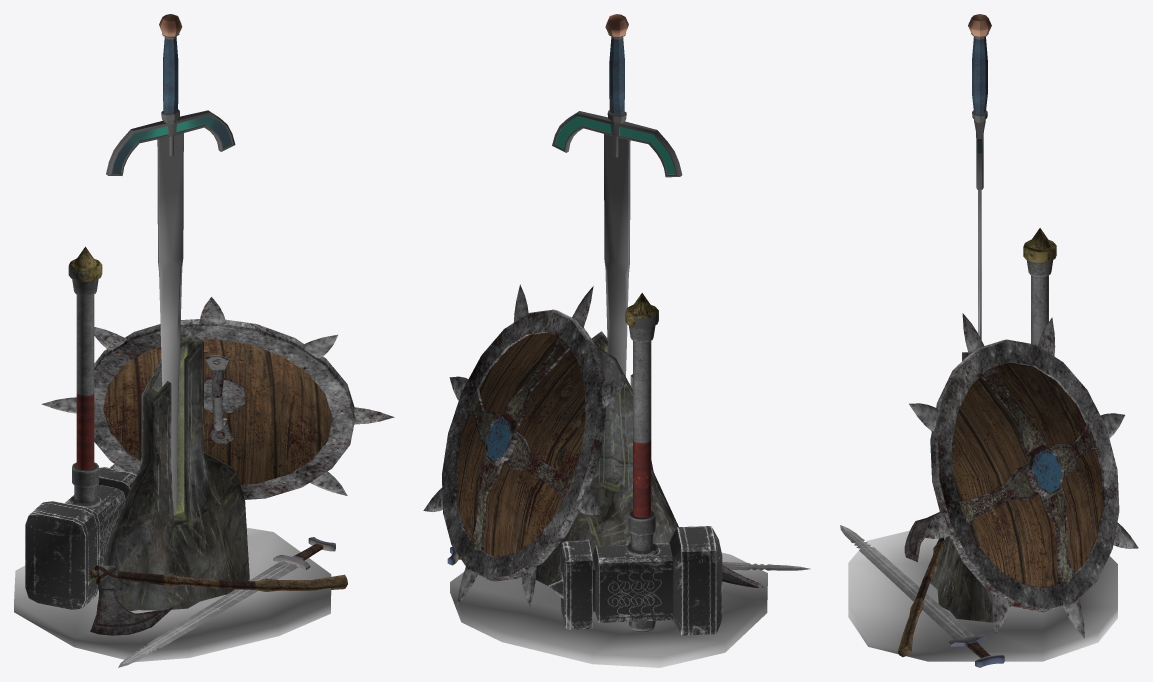
The model's file is vikings_weapons.obj.
3 renders of one model, left to right at view 1: azimuth 30°, elevation 25°; view 2: azimuth 150°, elevation 25°; view 3: azimuth 270°, elevation 25°, orthographic.
Parts seen in each view (by area): view 1: obj8, obj2, obj1, obj3, obj4, obj5, obj9, obj7, obj6; view 2: obj8, obj1, obj4, obj3, obj2, obj5, obj9; view 3: obj8, obj1, obj2, obj9, obj3, obj5, obj7, obj6.
Part boxes in pixels (box(x1,y1,x2,y2)): obj8: box(41, 297, 394, 499); obj2: box(103, 332, 249, 610); obj1: box(14, 527, 331, 662); obj3: box(106, 14, 235, 515); obj4: box(25, 467, 136, 609); obj5: box(68, 246, 102, 509); obj9: box(118, 537, 335, 667); obj7: box(90, 570, 347, 591); obj6: box(90, 565, 173, 635); obj8: box(423, 284, 626, 607); obj1: box(450, 552, 767, 667); obj4: box(548, 526, 722, 635); obj3: box(552, 14, 682, 376); obj2: box(535, 331, 678, 585); obj5: box(625, 293, 658, 631); obj9: box(447, 547, 810, 570); obj8: box(909, 313, 1138, 638); obj1: box(848, 530, 1117, 661); obj2: box(930, 352, 1011, 622); obj9: box(840, 525, 1004, 667); obj3: box(968, 14, 991, 339); obj5: box(1023, 228, 1056, 345); obj7: box(897, 538, 944, 656); obj6: box(904, 512, 939, 562).
Size of the model in its own units: 0.9241 by 1.58 by 0.7331.
